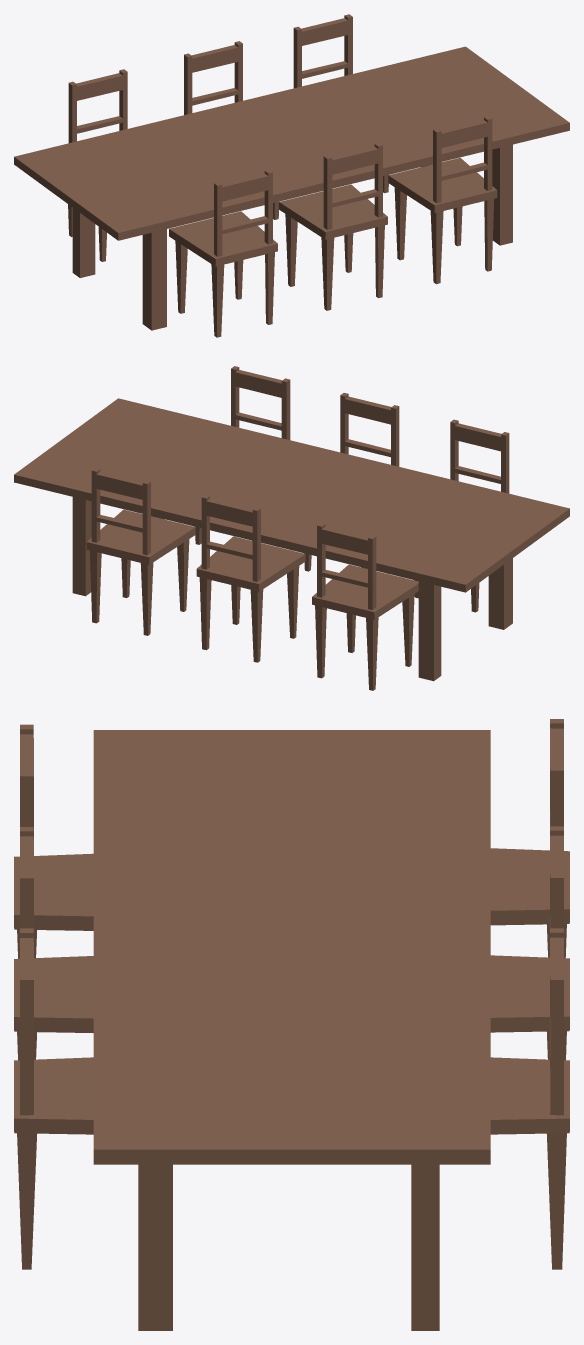
Rendered from Kitchen_Table_set.fbx.
The picture shows the model from 3 angles, top to bottom: view 1: azimuth 30°, elevation 25°; view 2: azimuth 150°, elevation 25°; view 3: azimuth 270°, elevation 25°; orthographic projection. The views are drawn at different scales.
Visible parts, largest first — view 1: Kitchen_Tabel, Kitchen_Chair3, Kitchen_Chair2, Kitchen_Chair1, Kitchen_Chair4, Kitchen_Chair6, Kitchen_Chair5; view 2: Kitchen_Tabel, Kitchen_Chair6, Kitchen_Chair5, Kitchen_Chair4, Kitchen_Chair1, Kitchen_Chair3, Kitchen_Chair2; view 3: Kitchen_Tabel, Kitchen_Chair6, Kitchen_Chair3, Kitchen_Chair4, Kitchen_Chair1, Kitchen_Chair5, Kitchen_Chair2.
Part boxes in pixels (x1,y1,x2,y2): Kitchen_Tabel: [14, 46, 569, 330]; Kitchen_Chair3: [388, 116, 497, 284]; Kitchen_Chair2: [279, 143, 387, 310]; Kitchen_Chair1: [169, 169, 277, 337]; Kitchen_Chair4: [68, 69, 127, 261]; Kitchen_Chair6: [293, 14, 388, 193]; Kitchen_Chair5: [184, 41, 278, 219]; Kitchen_Tabel: [14, 398, 569, 681]; Kitchen_Chair6: [86, 468, 195, 635]; Kitchen_Chair5: [196, 494, 305, 662]; Kitchen_Chair4: [312, 523, 418, 690]; Kitchen_Chair1: [414, 419, 509, 612]; Kitchen_Chair3: [195, 366, 290, 544]; Kitchen_Chair2: [304, 393, 399, 571]; Kitchen_Tabel: [93, 730, 490, 1330]; Kitchen_Chair6: [490, 928, 569, 1269]; Kitchen_Chair3: [14, 928, 93, 1269]; Kitchen_Chair4: [490, 719, 569, 958]; Kitchen_Chair1: [14, 724, 93, 958]; Kitchen_Chair5: [490, 826, 569, 1060]; Kitchen_Chair2: [14, 827, 93, 1060].
Size of the model in its own units: 1251 by 421 by 701.
